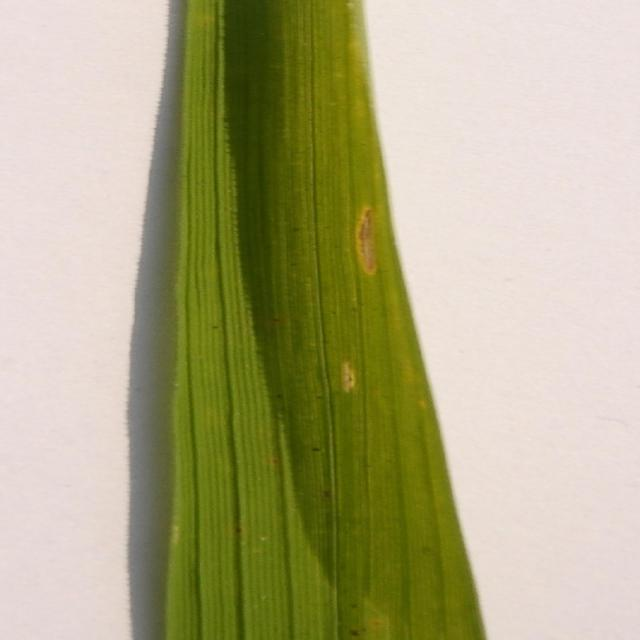Bacterial leaf blight: (342, 187, 392, 305), (334, 346, 372, 409)
